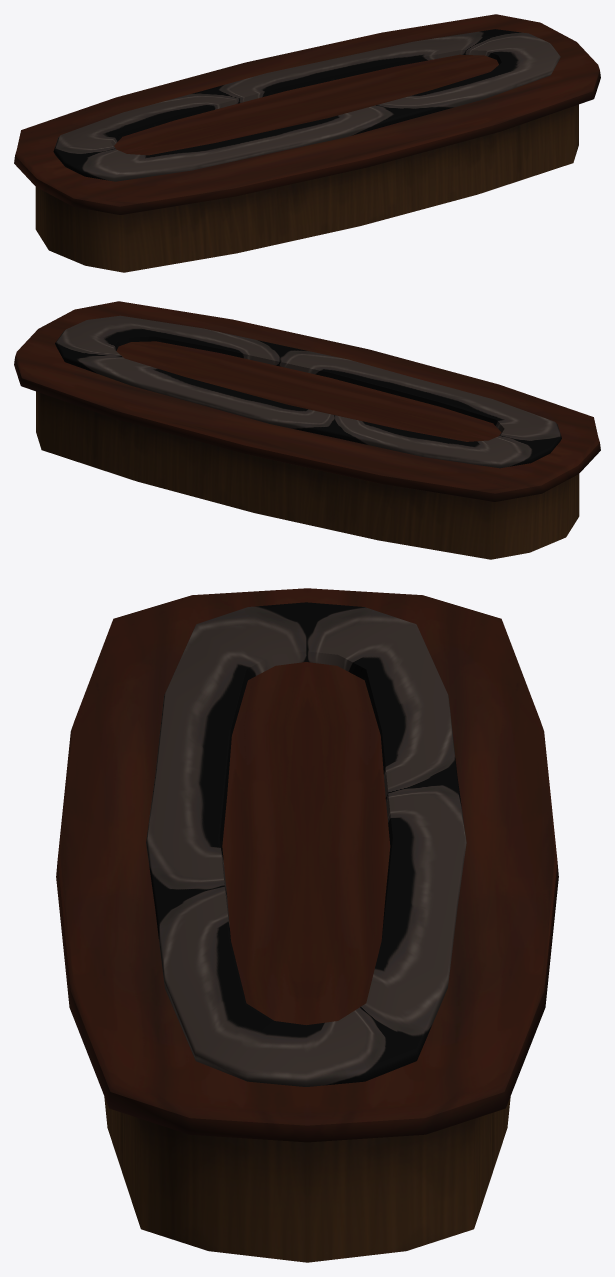
Rendered from SushiTable 2.fbx.
The picture shows the model from 3 angles, top to bottom: view 1: azimuth 30°, elevation 25°; view 2: azimuth 150°, elevation 25°; view 3: azimuth 270°, elevation 25°; orthographic projection. The views are drawn at different scales.
Parts seen in each view (by area): view 1: SushiTable, conveyor; view 2: SushiTable, conveyor; view 3: SushiTable, conveyor.
Part boxes in pixels (bbox=[...]): SushiTable: bbox=[14, 14, 600, 272]; conveyor: bbox=[53, 29, 560, 181]; SushiTable: bbox=[14, 301, 600, 559]; conveyor: bbox=[55, 315, 561, 468]; SushiTable: bbox=[56, 588, 558, 1262]; conveyor: bbox=[146, 602, 466, 1086].
Size of the model in its own units: 61.99 by 9.36 by 24.84.
